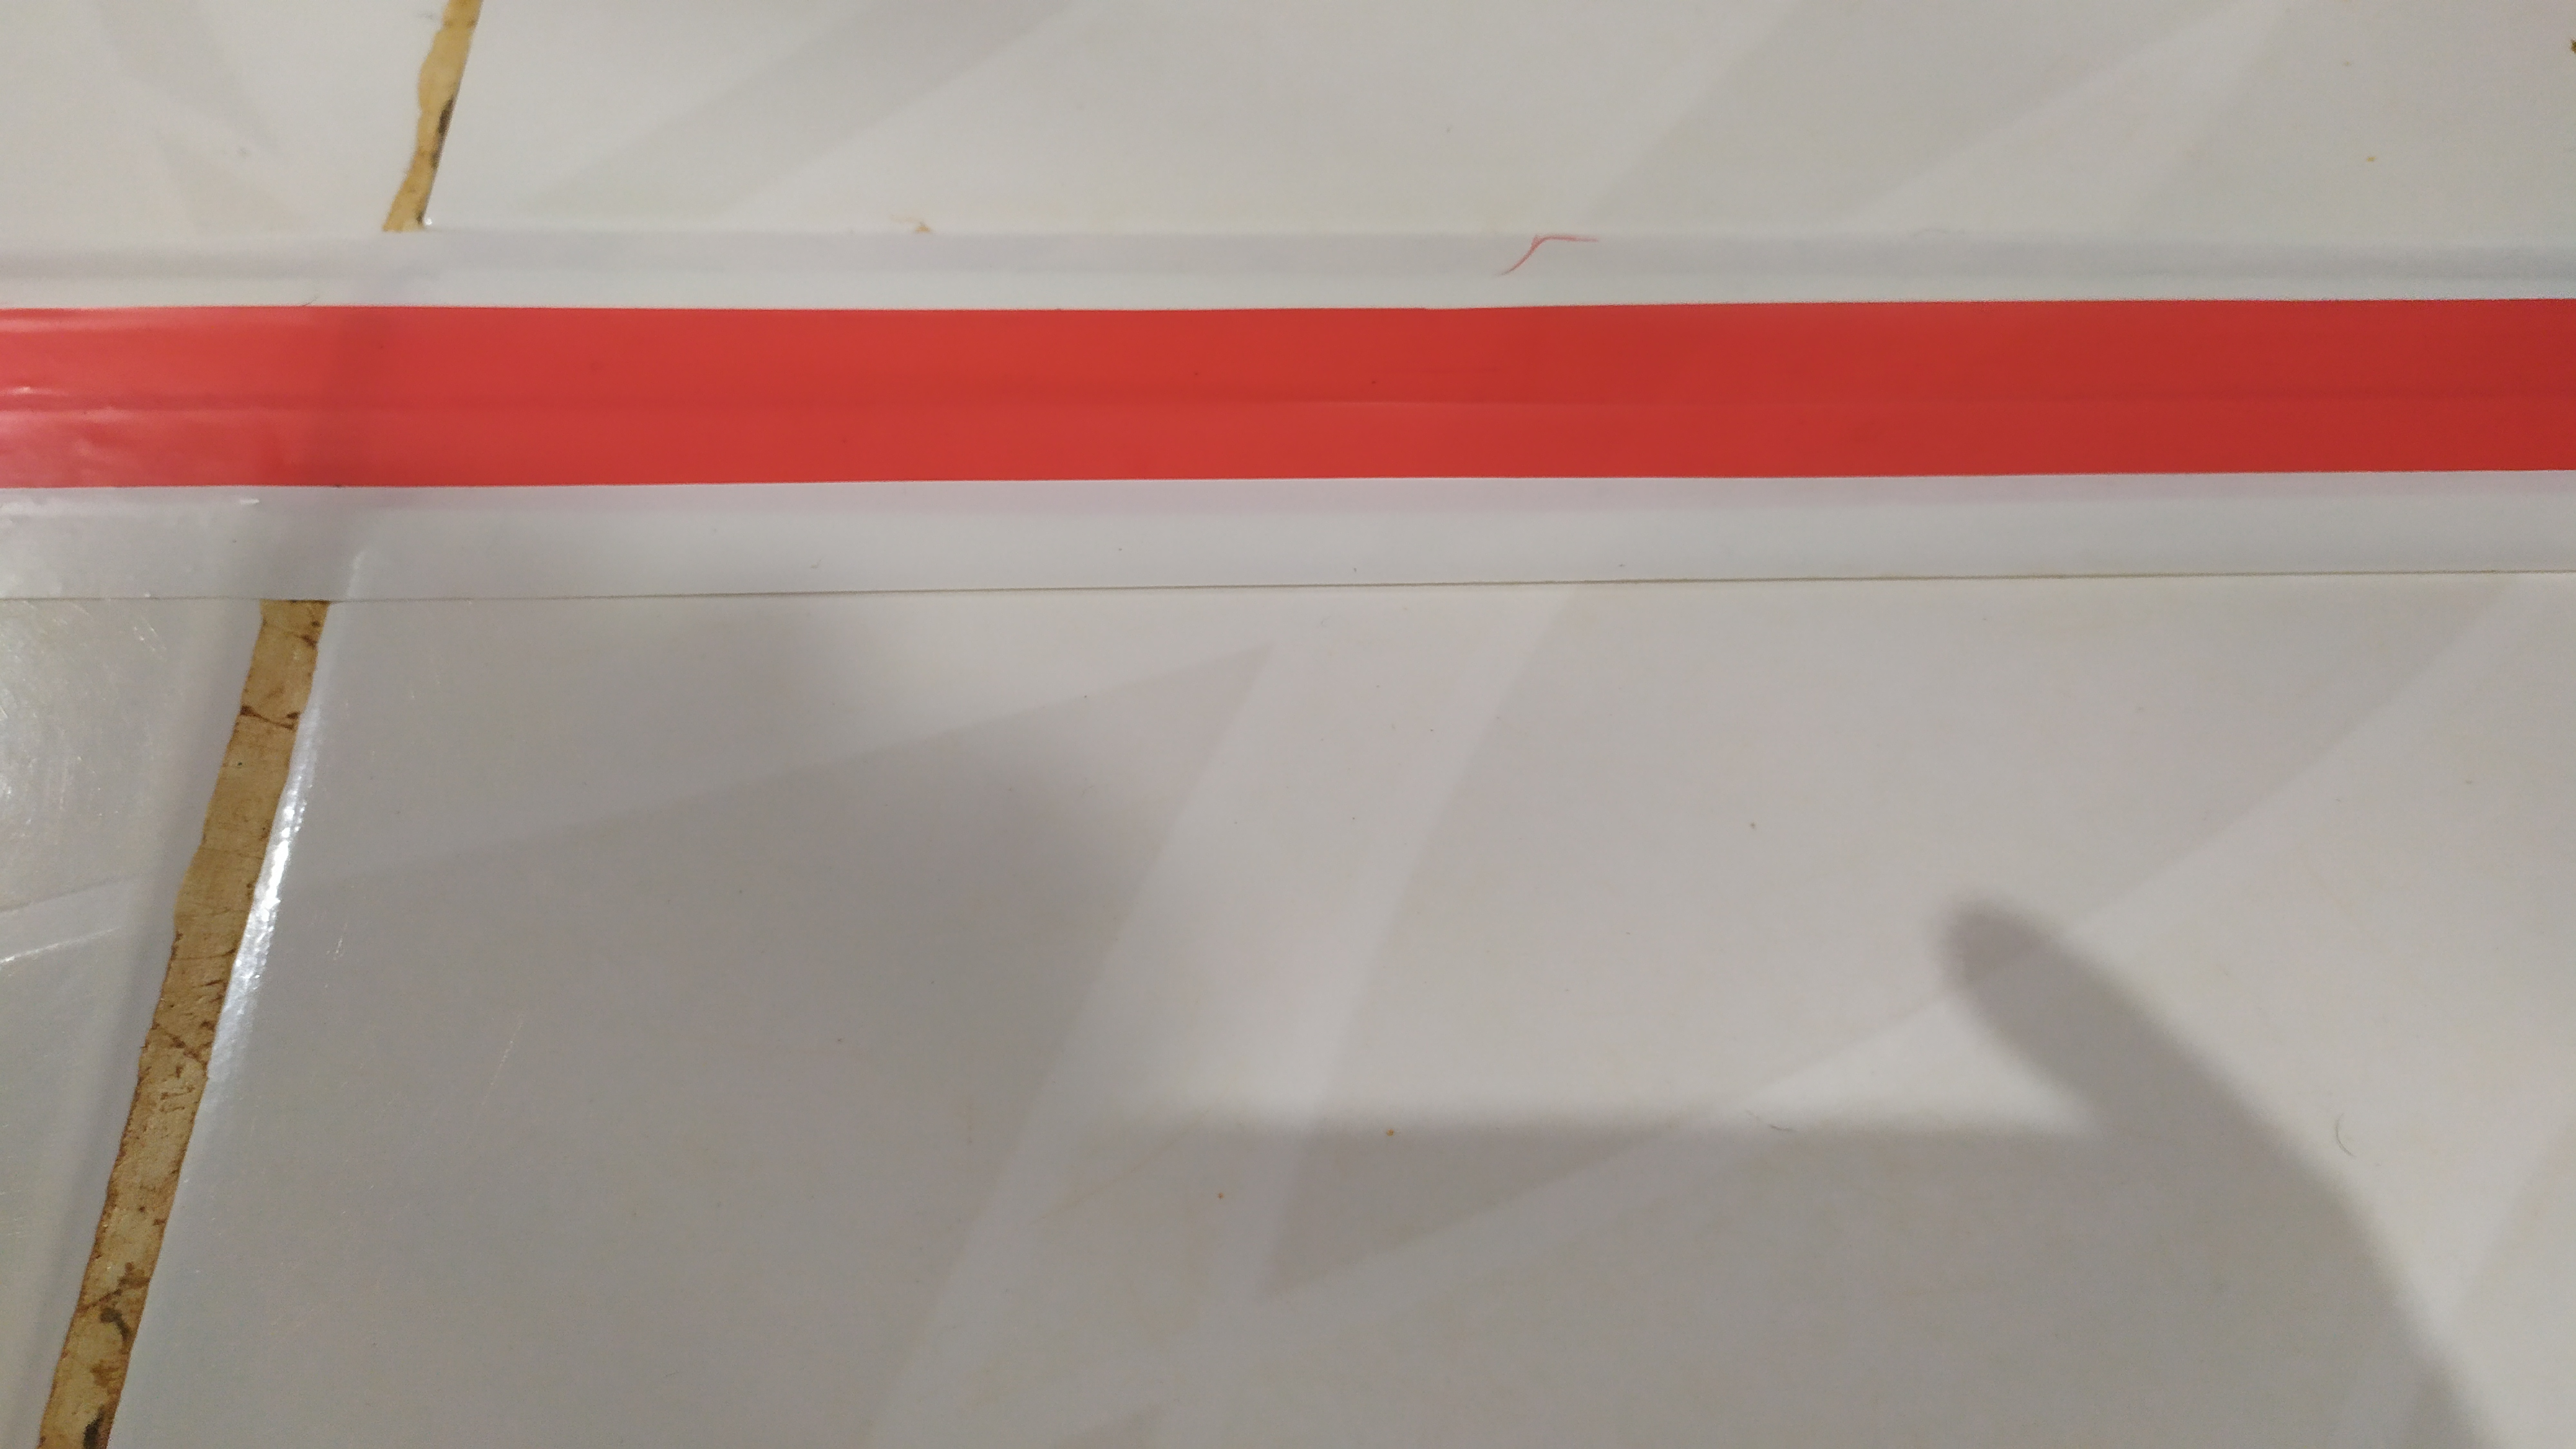faixa_reta: (0, 235, 2560, 587)
